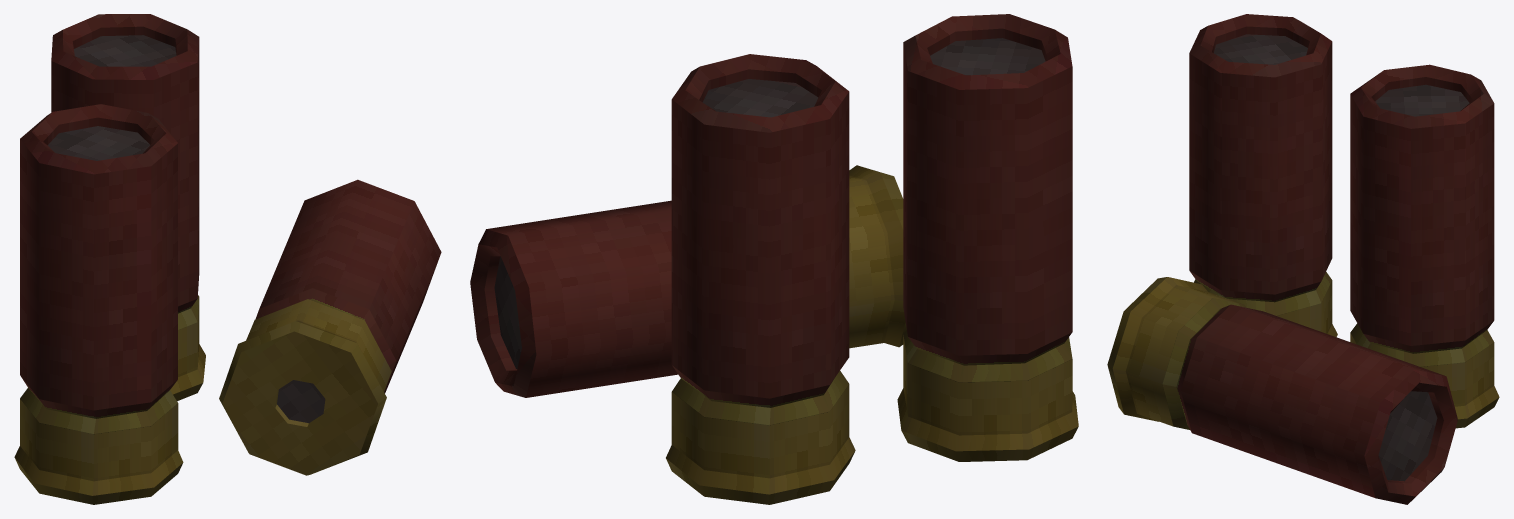
The model's file is shotgun_ammo_1.glb.
The picture shows the model from 3 angles, left to right: view 1: azimuth 30°, elevation 25°; view 2: azimuth 150°, elevation 25°; view 3: azimuth 270°, elevation 25°; orthographic projection. The views are drawn at different scales.
Parts seen in each view (by area): view 1: shotgun_ammo_1; view 2: shotgun_ammo_1; view 3: shotgun_ammo_1.
Boxes of the visible parts, box(x1,y1,x2,y2) form: shotgun_ammo_1: box(14, 14, 441, 504); shotgun_ammo_1: box(470, 14, 1078, 504); shotgun_ammo_1: box(1107, 14, 1499, 504).
Size of the model in its own units: 0.1239 by 0.0854 by 0.0971.
1 material, 1 textured.
